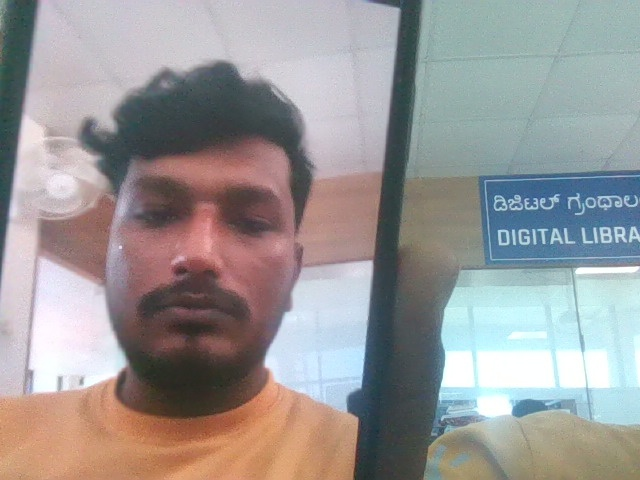fake: (81, 53, 327, 401)
